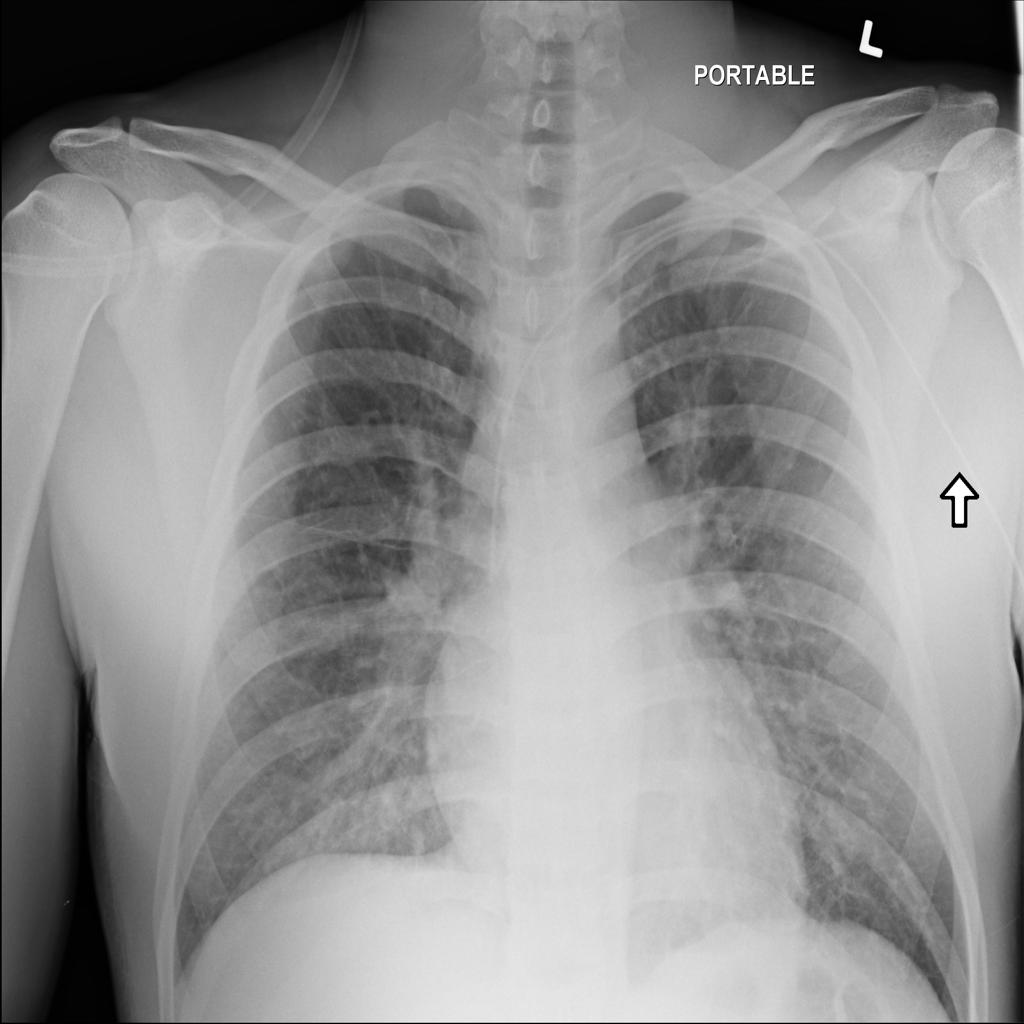nodule: (395, 811, 439, 870)
